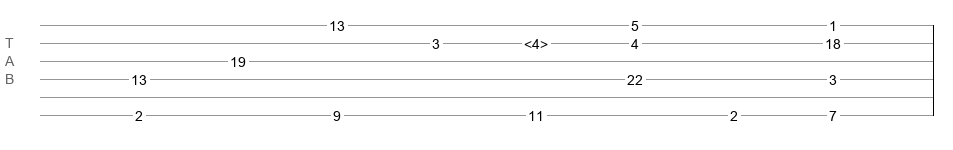1: (829, 18, 837, 28)
11: (528, 108, 544, 118)
13: (131, 72, 147, 82), (329, 18, 345, 28)
18: (825, 36, 841, 46)
19: (230, 54, 246, 64)
2: (135, 108, 143, 118), (730, 108, 738, 118)
22: (627, 72, 643, 82)
3: (432, 36, 440, 46), (829, 72, 837, 82)
4: (631, 36, 639, 46)
5: (631, 18, 639, 28)
7: (829, 108, 837, 118)
9: (333, 108, 341, 118)
harmonic: (524, 36, 548, 46)
